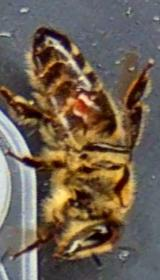varroa_mite: (65, 84, 107, 131)
